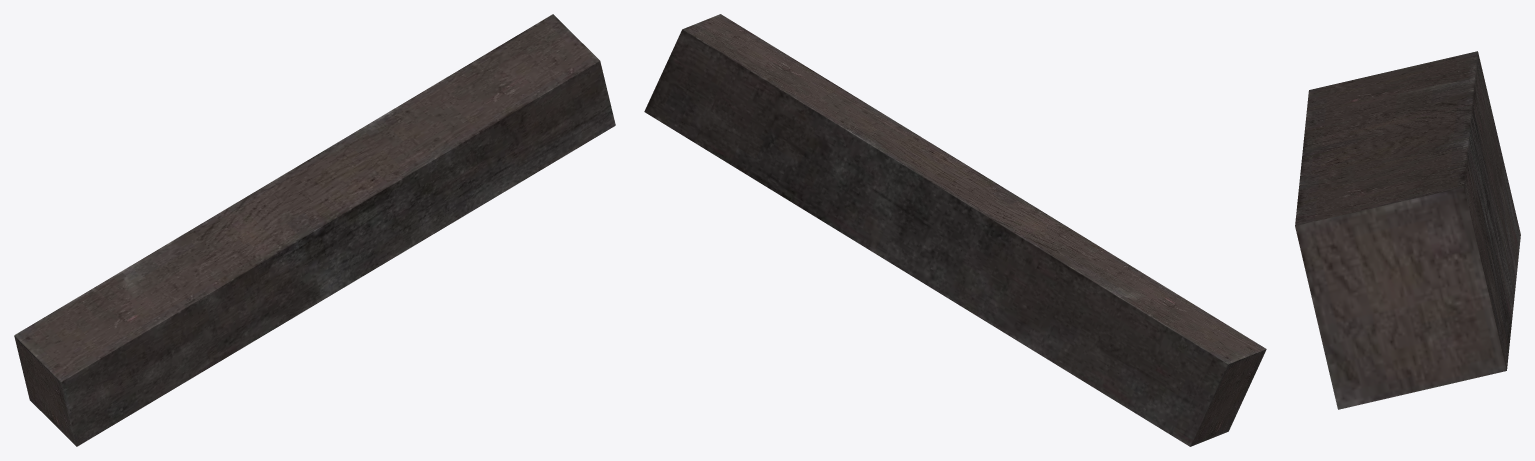
File: BoxWoodB.glb
The picture shows the model from 3 angles, left to right: view 1: azimuth 30°, elevation 25°; view 2: azimuth 150°, elevation 25°; view 3: azimuth 270°, elevation 25°; orthographic projection. The views are drawn at different scales.
Visible parts, largest first — view 1: BoxWoodB; view 2: BoxWoodB; view 3: BoxWoodB.
Part boxes in pixels (left/top/right/bottom): BoxWoodB: left=14, top=14, right=615, bottom=446; BoxWoodB: left=644, top=14, right=1266, bottom=446; BoxWoodB: left=1295, top=51, right=1520, bottom=409.
Size of the model in its own units: 1.17 by 0.57 by 0.2016.
1 material, 1 textured.
